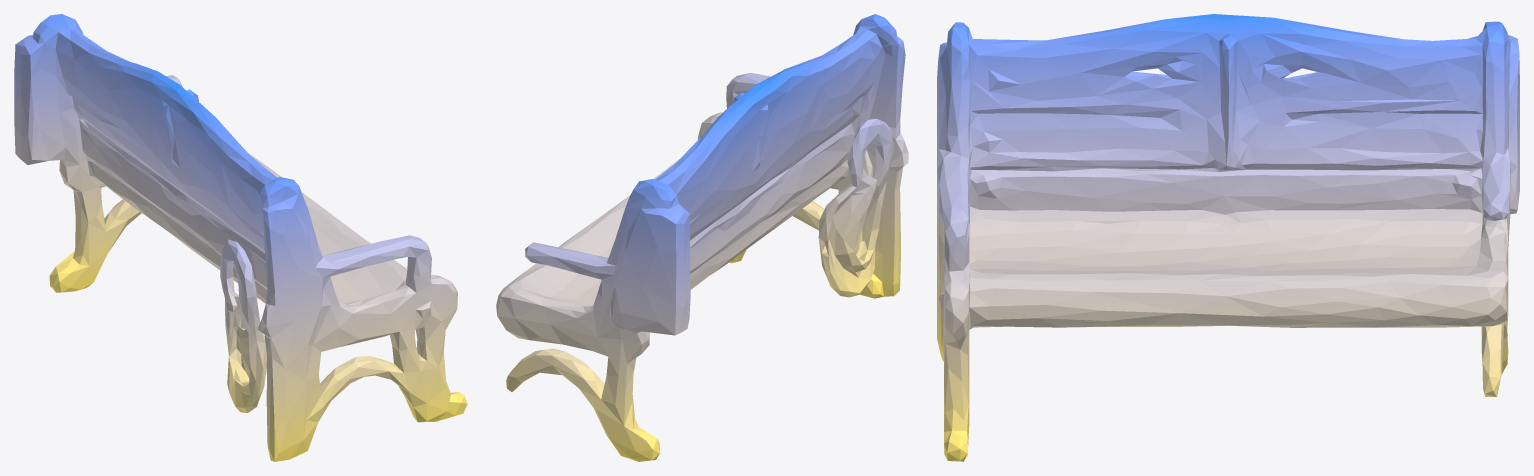
The model's file is 164_cyb_laser_gradient_fish_scales_2854_2026_10_03_2b6d3c.glb.
3 renders of one model, left to right at view 1: azimuth 30°, elevation 25°; view 2: azimuth 150°, elevation 25°; view 3: azimuth 270°, elevation 25°, orthographic. The views are drawn at different scales.
Visible parts, largest first — view 1: geometry_0; view 2: geometry_0; view 3: geometry_0.
Boxes of the visible parts, x1,y1,x2,y2 form: geometry_0: (14,14,467,461); geometry_0: (496,14,908,461); geometry_0: (937,14,1519,461).
Bounding box in the file's own units: 0.5225 × 0.6609 × 1.
